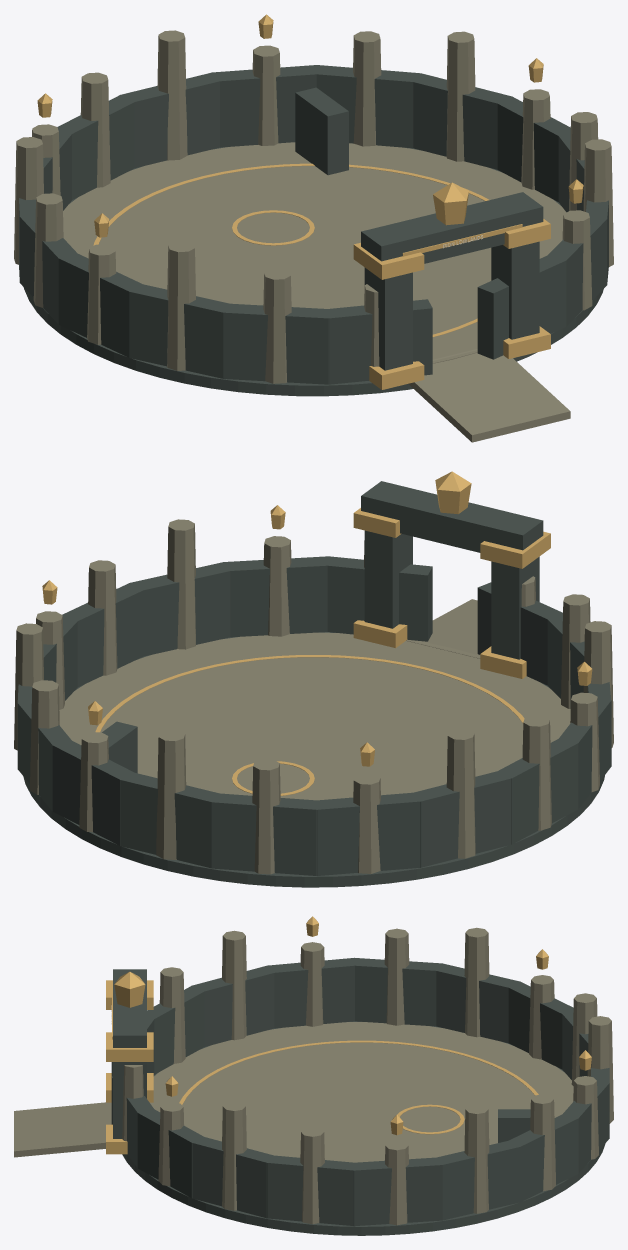
Rendered from Arena_IronLowlands.glb.
The picture shows the model from 3 angles, top to bottom: view 1: azimuth 30°, elevation 25°; view 2: azimuth 150°, elevation 25°; view 3: azimuth 270°, elevation 25°; orthographic projection. The views are drawn at different scales.
Visible parts, largest first — view 1: Arena_IronLowlands_IronLowlands_stone_-1_5, Arena_IronLowlands_IronLowlands_dark_0_5, Arena_IronLowlands_IronLowlands_dark_-1_4, Arena_IronLowlands_IronLowlands_dark_0_4, Arena_IronLowlands_IronLowlands_stone_0_4, Arena_IronLowlands_IronLowlands_dark_-1_5, Arena_IronLowlands_IronLowlands_stone_0_5, Arena_IronLowlands_IronLowlands_stone_-1_4, Arena_IronLowlands_IronLowlands_accent_-1_4, Arena_IronLowlands_IronLowlands_accent_0_4, Arena_IronLowlands_IronLowlands_accent_-1_5, Arena_IronLowlands_IronLowlands_accent_0_5; view 2: Arena_IronLowlands_IronLowlands_stone_-1_5, Arena_IronLowlands_IronLowlands_dark_0_4, Arena_IronLowlands_IronLowlands_dark_-1_5, Arena_IronLowlands_IronLowlands_dark_0_5, Arena_IronLowlands_IronLowlands_dark_-1_4, Arena_IronLowlands_IronLowlands_stone_0_4, Arena_IronLowlands_IronLowlands_stone_0_5, Arena_IronLowlands_IronLowlands_stone_-1_4, Arena_IronLowlands_IronLowlands_accent_-1_4, Arena_IronLowlands_IronLowlands_accent_-1_5, Arena_IronLowlands_IronLowlands_accent_0_4, Arena_IronLowlands_IronLowlands_accent_0_5; view 3: Arena_IronLowlands_IronLowlands_stone_-1_5, Arena_IronLowlands_IronLowlands_dark_-1_5, Arena_IronLowlands_IronLowlands_dark_0_4, Arena_IronLowlands_IronLowlands_dark_0_5, Arena_IronLowlands_IronLowlands_dark_-1_4, Arena_IronLowlands_IronLowlands_stone_0_4, Arena_IronLowlands_IronLowlands_stone_0_5, Arena_IronLowlands_IronLowlands_stone_-1_4, Arena_IronLowlands_IronLowlands_accent_-1_4, Arena_IronLowlands_IronLowlands_accent_-1_5, Arena_IronLowlands_IronLowlands_accent_0_4.
Part boxes in pixels (<box>): Arena_IronLowlands_IronLowlands_stone_-1_5: <box>14,30,566,363</box>; Arena_IronLowlands_IronLowlands_dark_0_5: <box>120,65,570,201</box>; Arena_IronLowlands_IronLowlands_dark_-1_4: <box>58,252,432,384</box>; Arena_IronLowlands_IronLowlands_dark_0_4: <box>361,132,608,359</box>; Arena_IronLowlands_IronLowlands_stone_0_4: <box>408,112,613,442</box>; Arena_IronLowlands_IronLowlands_dark_-1_5: <box>19,94,603,396</box>; Arena_IronLowlands_IronLowlands_stone_0_5: <box>252,31,550,189</box>; Arena_IronLowlands_IronLowlands_stone_-1_4: <box>87,241,379,383</box>; Arena_IronLowlands_IronLowlands_accent_-1_4: <box>94,182,468,389</box>; Arena_IronLowlands_IronLowlands_accent_0_4: <box>402,179,583,358</box>; Arena_IronLowlands_IronLowlands_accent_-1_5: <box>37,93,489,337</box>; Arena_IronLowlands_IronLowlands_accent_0_5: <box>258,14,543,82</box>; Arena_IronLowlands_IronLowlands_stone_-1_5: <box>59,632,570,874</box>; Arena_IronLowlands_IronLowlands_dark_0_4: <box>62,481,543,687</box>; Arena_IronLowlands_IronLowlands_dark_-1_5: <box>23,632,604,887</box>; Arena_IronLowlands_IronLowlands_dark_0_5: <box>17,617,223,868</box>; Arena_IronLowlands_IronLowlands_dark_-1_4: <box>477,556,611,809</box>; Arena_IronLowlands_IronLowlands_stone_0_4: <box>88,519,480,675</box>; Arena_IronLowlands_IronLowlands_stone_0_5: <box>14,611,108,832</box>; Arena_IronLowlands_IronLowlands_stone_-1_4: <box>521,576,613,791</box>; Arena_IronLowlands_IronLowlands_accent_-1_4: <box>435,471,592,685</box>; Arena_IronLowlands_IronLowlands_accent_-1_5: <box>95,655,524,795</box>; Arena_IronLowlands_IronLowlands_accent_0_4: <box>270,505,407,648</box>; Arena_IronLowlands_IronLowlands_accent_0_5: <box>42,580,102,725</box>; Arena_IronLowlands_IronLowlands_stone_-1_5: <box>150,927,613,1162</box>; Arena_IronLowlands_IronLowlands_dark_-1_5: <box>122,958,605,1235</box>; Arena_IronLowlands_IronLowlands_dark_0_4: <box>111,969,358,1225</box>; Arena_IronLowlands_IronLowlands_dark_0_5: <box>353,1068,609,1225</box>; Arena_IronLowlands_IronLowlands_dark_-1_4: <box>111,958,357,1076</box>; Arena_IronLowlands_IronLowlands_stone_0_4: <box>14,1065,324,1224</box>; Arena_IronLowlands_IronLowlands_stone_0_5: <box>385,1076,598,1225</box>; Arena_IronLowlands_IronLowlands_stone_-1_4: <box>159,930,324,1063</box>; Arena_IronLowlands_IronLowlands_accent_-1_4: <box>106,916,318,1102</box>; Arena_IronLowlands_IronLowlands_accent_-1_5: <box>179,949,548,1134</box>; Arena_IronLowlands_IronLowlands_accent_0_4: <box>106,987,178,1154</box>.
Bounding box in the file's own units: 73.86 × 26.84 × 88.
